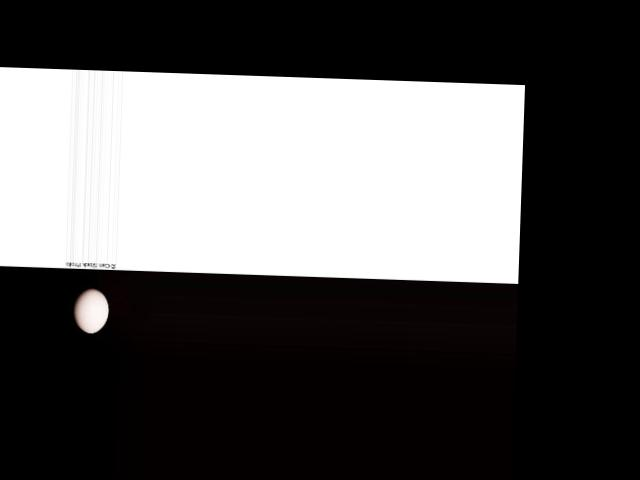egg: (72, 286, 108, 333)
